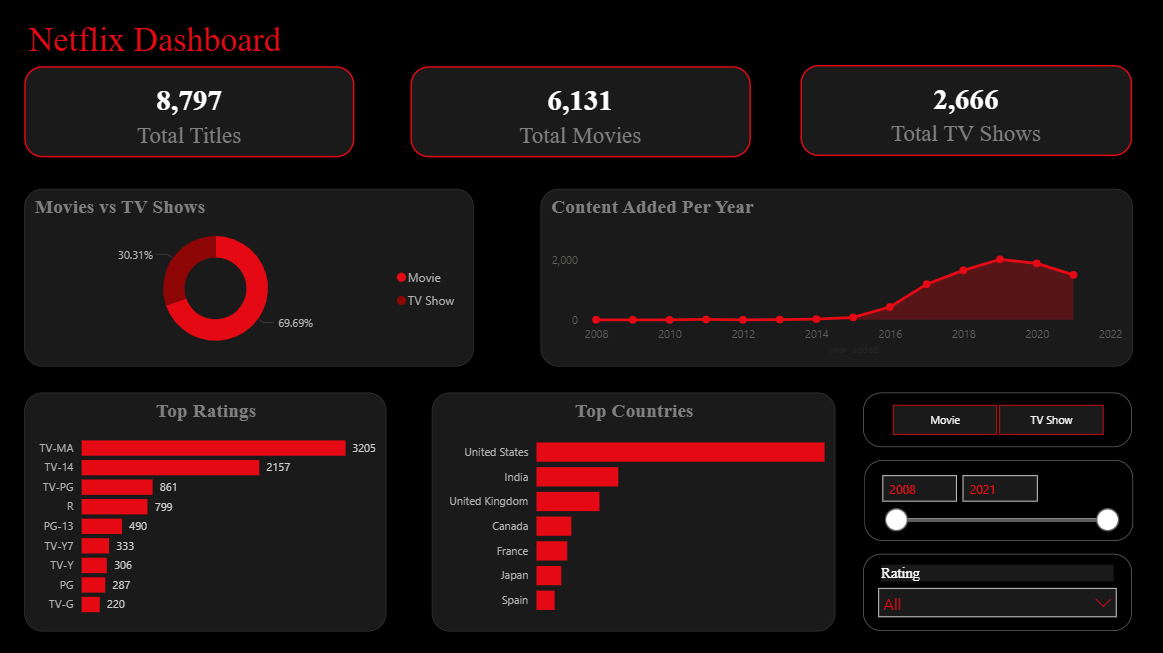

The dashboard page shown, as its layout file describes it:
{"tool":"powerbi","page":{"name":"Page 1","canvas":[1280,720],"ordinal":0},"visuals":[{"type":"card","fields":{"Values":["CountNonNull(cleaned_netflix.show_id)"]},"box":[28.8,72.7,362.3,100.2],"z":0},{"type":"card","fields":{"Values":["CountNonNull(cleaned_netflix.type)"]},"box":[452.8,72.7,373.2,100.2],"z":1000},{"type":"card","fields":{"Values":["CountNonNull(cleaned_netflix.type)"]},"box":[881,71.4,363.6,100.2],"z":2000},{"type":"donutChart","title":"Movies vs TV Shows","fields":{"Category":["cleaned_netflix.type"],"Y":["CountNonNull(cleaned_netflix.show_id)"]},"box":[28.8,207.2,494,194.9],"z":3000},{"type":"lineChart","title":"Content Added Per Year","fields":{"Category":["cleaned_netflix.year_added"],"Y":["CountNonNull(cleaned_netflix.show_id)"]},"box":[595.5,207.2,650.4,194.9],"z":4000},{"type":"clusteredBarChart","title":"Top Ratings","fields":{"Category":["cleaned_netflix.rating"],"Y":["CountNonNull(cleaned_netflix.show_id)"]},"box":[28.8,430.9,397.9,262.1],"z":5000},{"type":"clusteredBarChart","title":"Top Countries","fields":{"Category":["netflix_country.country"],"Y":["CountNonNull(netflix_country.show_id)"]},"box":[476.2,430.9,443.2,262.1],"z":6000},{"type":"slicer","fields":{"Values":["cleaned_netflix.type"]},"box":[949.6,430.9,295,60.4],"z":7000},{"type":"slicer","fields":{"Values":["cleaned_netflix.rating"]},"box":[949.6,607.9,295,85.1],"z":8000},{"type":"textbox","box":[28.8,16.5,312.9,54.9],"z":9000},{"type":"slicer","fields":{"Values":["cleaned_netflix.year_added"]},"box":[950.9,505,295,89.2],"z":10000}]}

Visuals, with their boxes in screenshot pixels (x1, y1, x2, y2), scaled from the page's 1280x720 canvas onto the 1163x653 screenshot:
card - CountNonNull(cleaned_netflix.show_id): select_region(26, 66, 355, 157)
card - CountNonNull(cleaned_netflix.type): select_region(411, 66, 750, 157)
card - CountNonNull(cleaned_netflix.type): select_region(800, 65, 1131, 156)
"Movies vs TV Shows" donutChart: select_region(26, 188, 475, 365)
"Content Added Per Year" lineChart: select_region(541, 188, 1132, 365)
"Top Ratings" clusteredBarChart: select_region(26, 391, 388, 629)
"Top Countries" clusteredBarChart: select_region(433, 391, 835, 629)
slicer - cleaned_netflix.type: select_region(863, 391, 1131, 446)
slicer - cleaned_netflix.rating: select_region(863, 551, 1131, 629)
textbox: select_region(26, 15, 310, 65)
slicer - cleaned_netflix.year_added: select_region(864, 458, 1132, 539)
